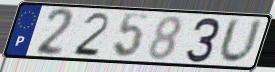2: (32, 6, 75, 59), (71, 11, 111, 58)
3: (183, 15, 222, 65)
5: (112, 13, 151, 61)
8: (147, 14, 186, 62)
U: (217, 16, 266, 67)
